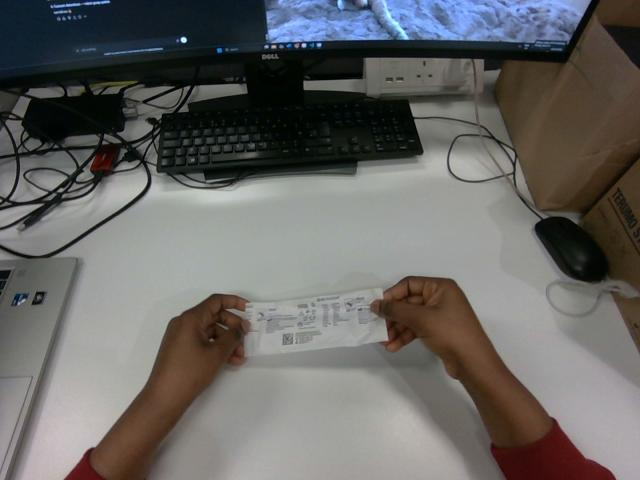syringe: (244, 288, 387, 356)
